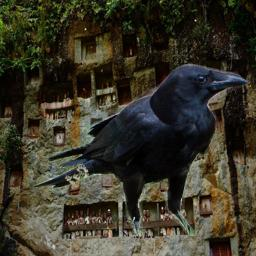Crow: (33, 64, 252, 236)
